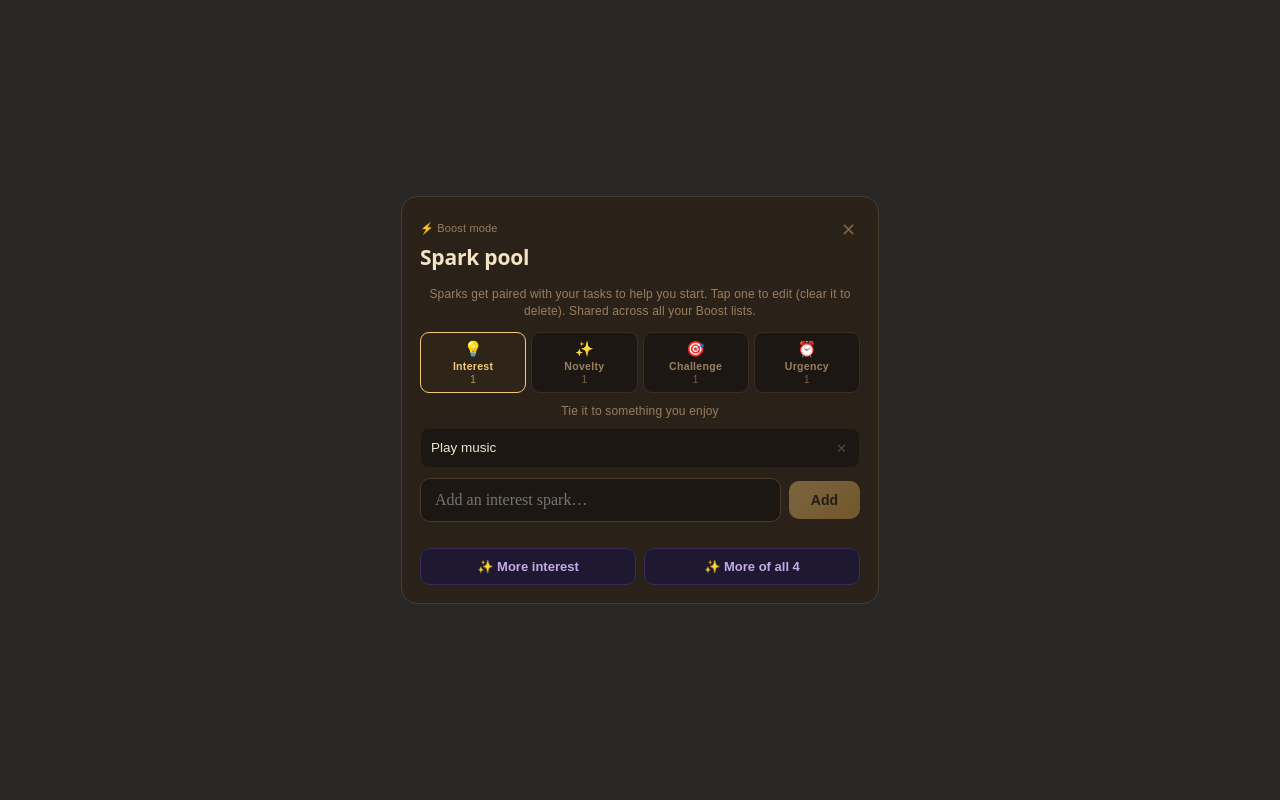
Test: Boost mode › the pool editor adds manually and merges generated sparks
This screenshot has width=1280, height=800.
Type "Call a friend" into the field with placeholder "Add an interest spark…". click: (600, 500)
box: 420,478 -> 781,522
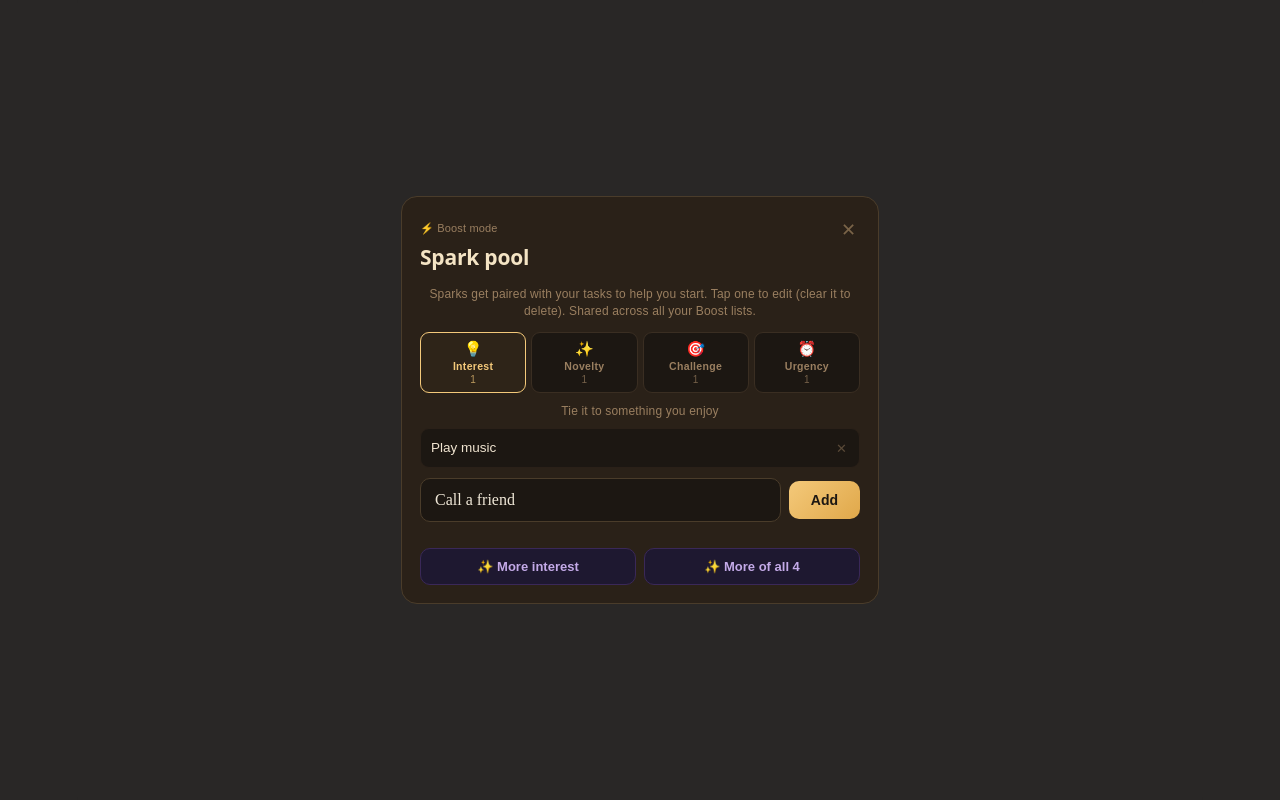
Click the button "Add". click: (824, 500)
box: 789,482 -> 860,520
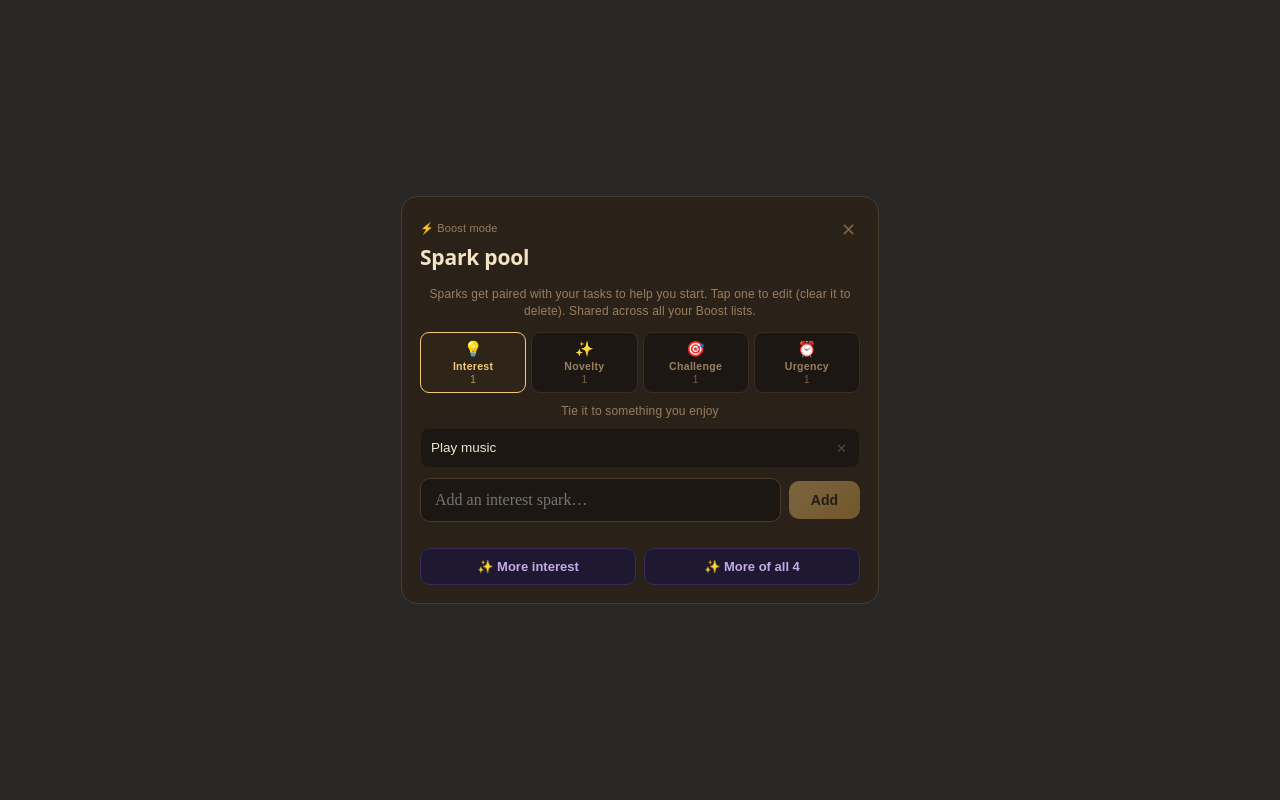
Click the button "✨ More interest". click: (528, 567)
box: 420,548 -> 636,586
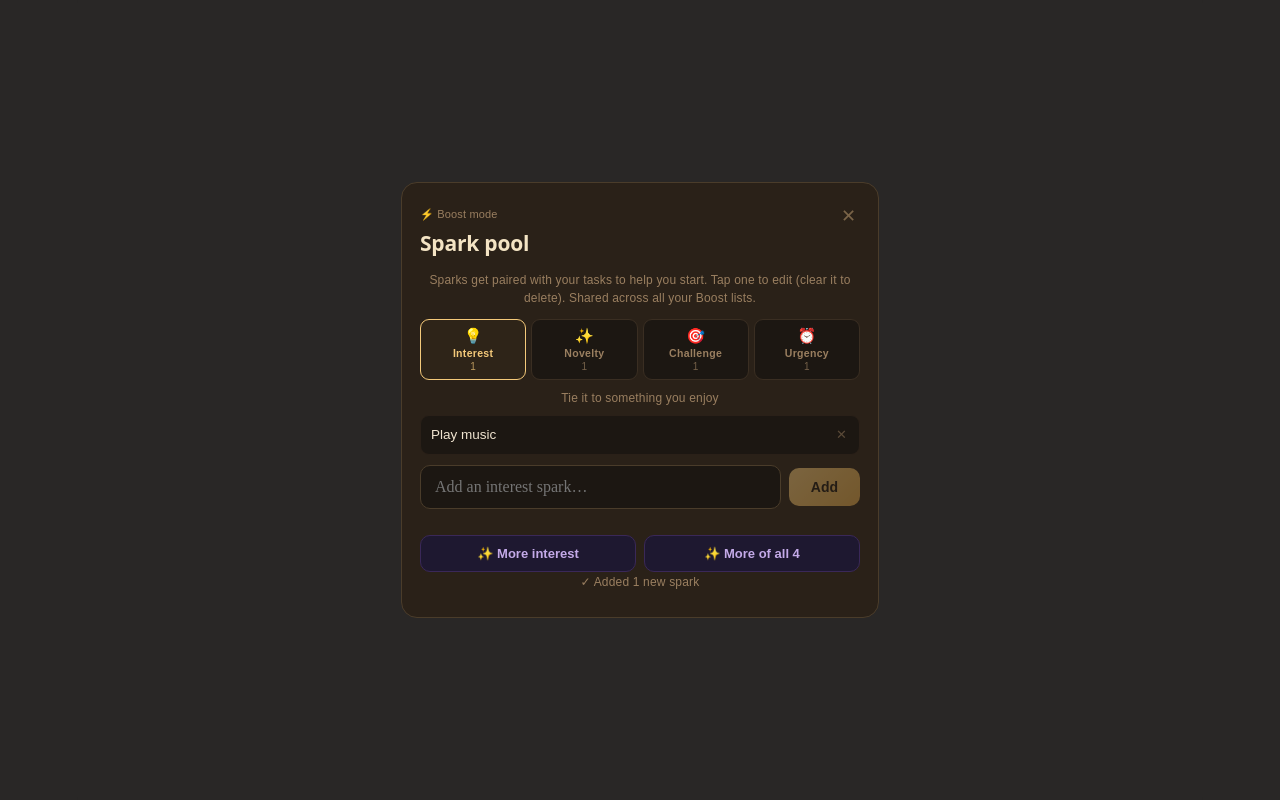
Result: the text "✓ Added 1 new spark" is shown at 580,575 -> 699,589
